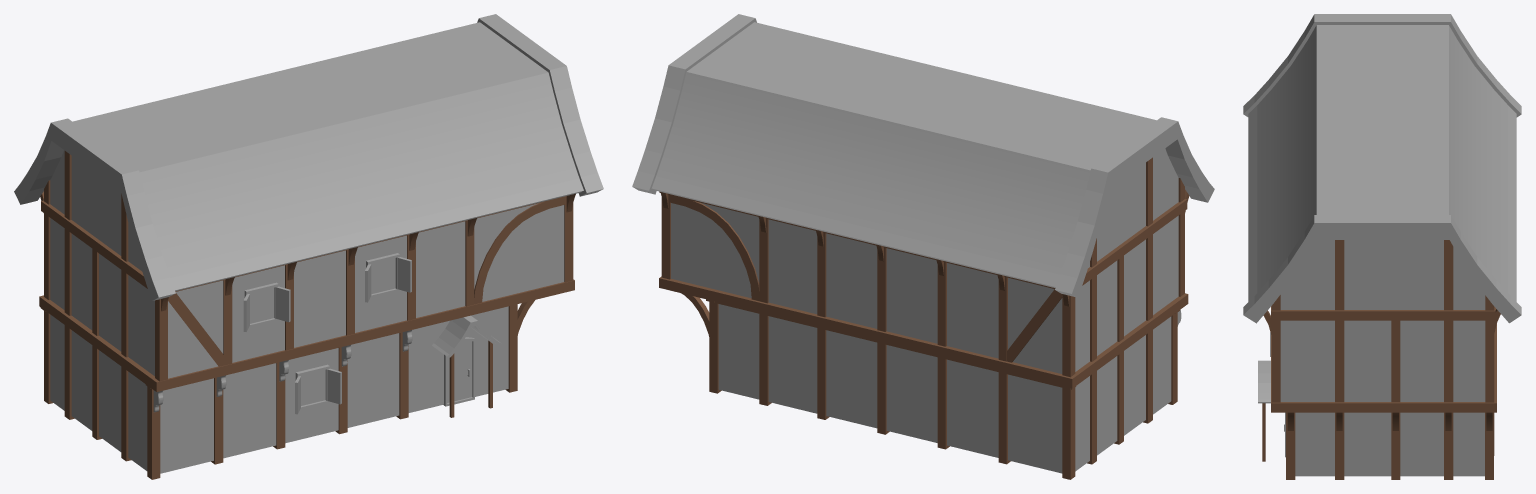
Rendered from House.fbx.
3 views of the same model, side by side, from view 1: azimuth 30°, elevation 25°; view 2: azimuth 150°, elevation 25°; view 3: azimuth 270°, elevation 25° (orthographic). The views are drawn at different scales.
Visible parts, largest first — view 1: pCube45; view 2: pCube45; view 3: pCube45.
Boxes of the visible parts, x1,y1,x2,y2 form: pCube45: (14, 14, 603, 479); pCube45: (632, 14, 1214, 479); pCube45: (1243, 14, 1521, 479).
Size of the model in its own units: 11.58 by 7.42 by 6.52.
